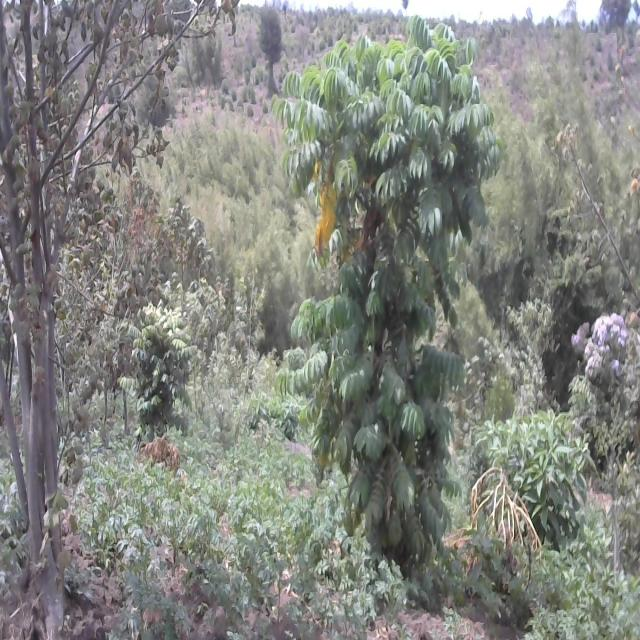other: (279, 13, 499, 620)
